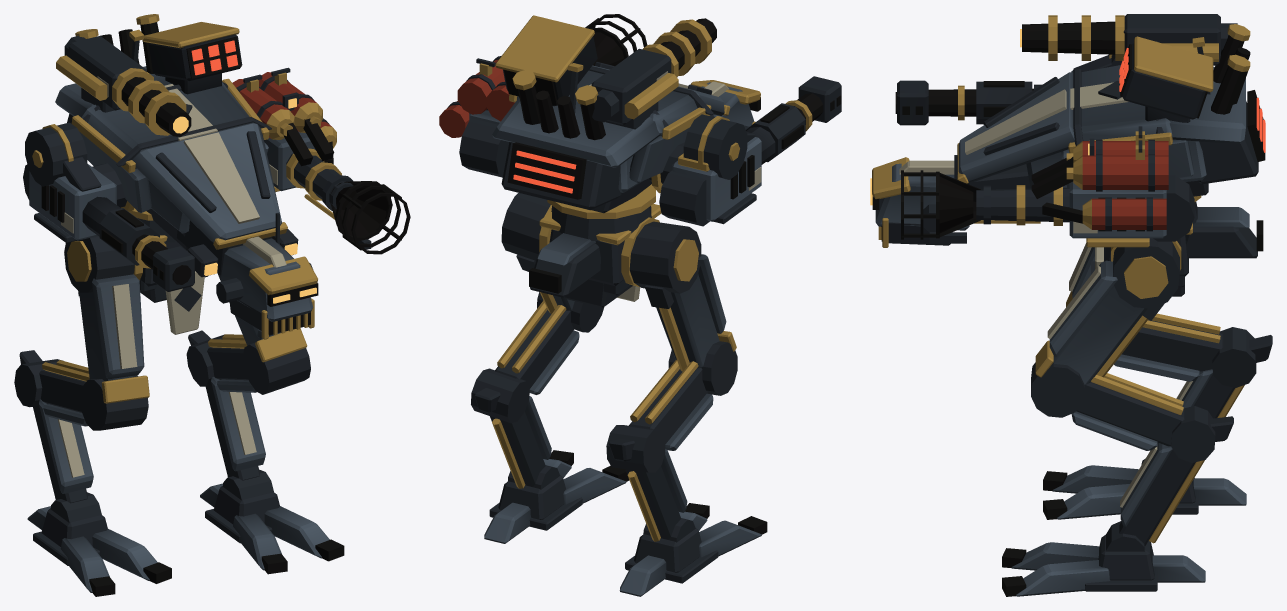
File: scout_walker.glb
3 views of the same model, side by side, from view 1: azimuth 30°, elevation 25°; view 2: azimuth 150°, elevation 25°; view 3: azimuth 270°, elevation 25° (orthographic). The views are drawn at different scales.
Visible parts, largest first — view 1: torso, arm_L, thigh_R, head, arm_R, sunspear, foot_L, foot_R, aa_rack, barrel_R, meta_L, meta_R (+4 smaller); view 2: torso, thigh_R, arm_R, pelvis, sunspear, arm_L, shin_L, shin_R, foot_R, foot_L, aa_rack, barrel_R (+4 smaller); view 3: torso, arm_L, thigh_L, foot_L, shin_L, shin_R, sunspear, aa_rack, foot_R, meta_L, head, barrel_R (+3 smaller).
Part boxes in pixels (<box>): torso: <box>55,14,298,277</box>; arm_L: <box>232,67,410,254</box>; thigh_R: <box>64,236,149,430</box>; head: <box>216,212,318,339</box>; arm_R: <box>23,122,116,242</box>; sunspear: <box>56,36,191,136</box>; foot_L: <box>200,483,344,574</box>; foot_R: <box>27,506,171,596</box>; aa_rack: <box>142,22,242,94</box>; barrel_R: <box>82,196,194,291</box>; meta_L: <box>205,377,273,500</box>; meta_R: <box>33,399,101,522</box>; torso: <box>492,62,730,240</box>; thigh_R: <box>629,221,737,395</box>; arm_R: <box>659,114,761,226</box>; pelvis: <box>529,204,661,307</box>; sunspear: <box>591,18,716,129</box>; arm_L: <box>439,14,647,177</box>; shin_L: <box>471,300,579,423</box>; shin_R: <box>606,359,713,472</box>; foot_R: <box>619,503,767,596</box>; foot_L: <box>484,450,629,543</box>; aa_rack: <box>495,15,597,106</box>; barrel_R: <box>746,76,841,164</box>; torso: <box>957,24,1265,224</box>; arm_L: <box>901,126,1194,247</box>; thigh_L: <box>1031,238,1179,417</box>; foot_L: <box>1002,534,1205,596</box>; shin_L: <box>1071,373,1233,462</box>; shin_R: <box>1114,313,1272,387</box>; sunspear: <box>1020,14,1237,65</box>; aa_rack: <box>1119,36,1213,122</box>; foot_R: <box>1043,458,1246,519</box>; meta_L: <box>1105,442,1204,551</box>; head: <box>870,155,969,247</box>; barrel_R: <box>895,80,1041,125</box>.
Size of the model in its own units: 14.61 by 24.68 by 17.66.
